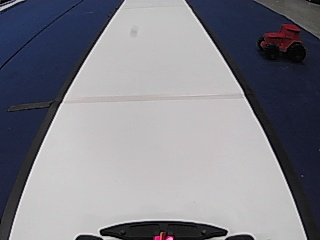tractor: (256, 22, 306, 62)
